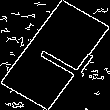L_NW: (21, 28, 89, 82)
